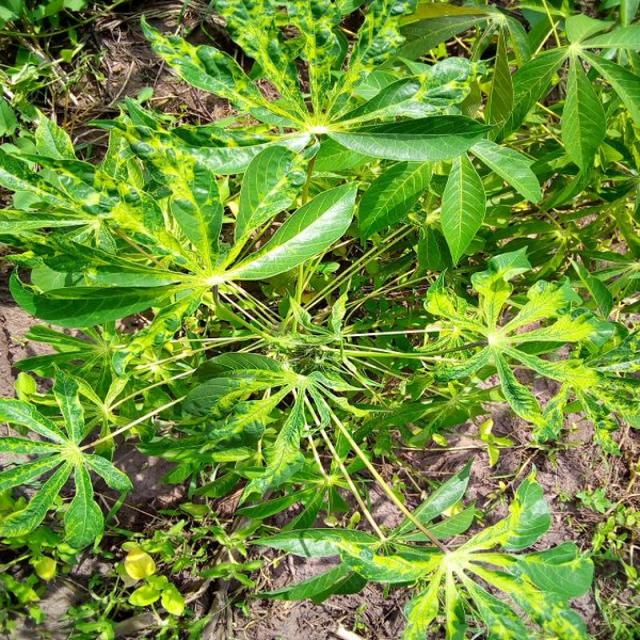cassava leaf: (1, 1, 637, 637), (224, 178, 358, 282), (439, 152, 486, 266)
